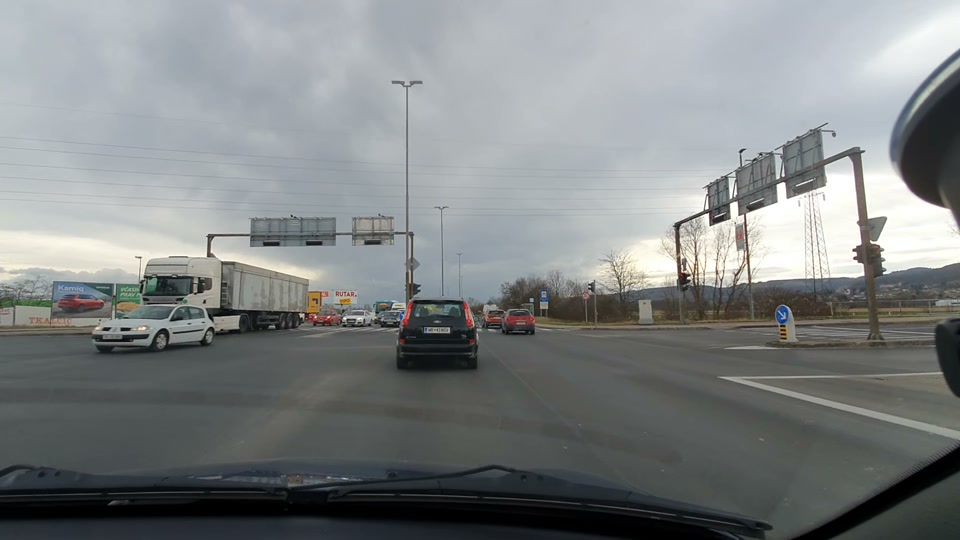vehicle_ign: (391, 292, 483, 373), (496, 304, 540, 341)
vehicle_s: (139, 248, 309, 328), (91, 298, 216, 348)
